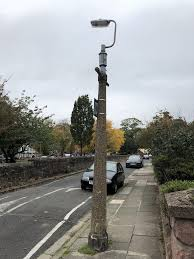light_pole: (90, 39, 114, 255)
